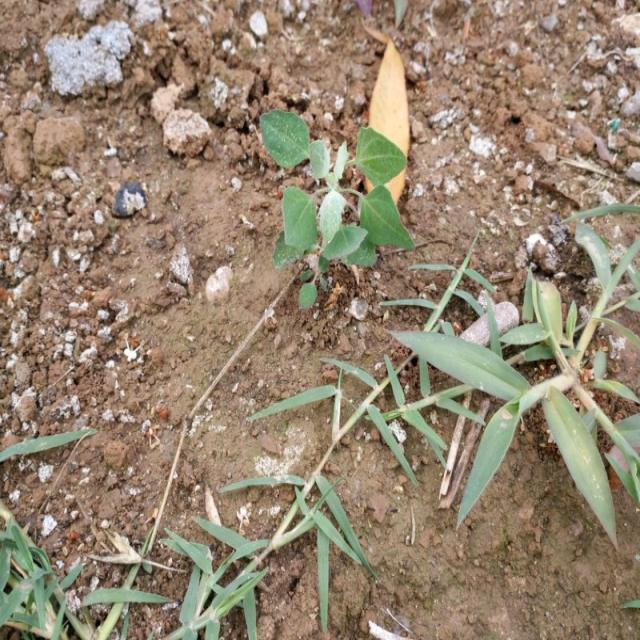ca: (258, 107, 416, 273)
